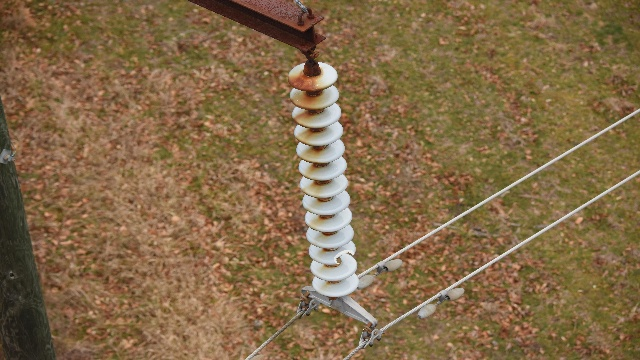broken_local: (333, 249, 356, 265)
insulator_unspecified: (288, 62, 358, 299)
